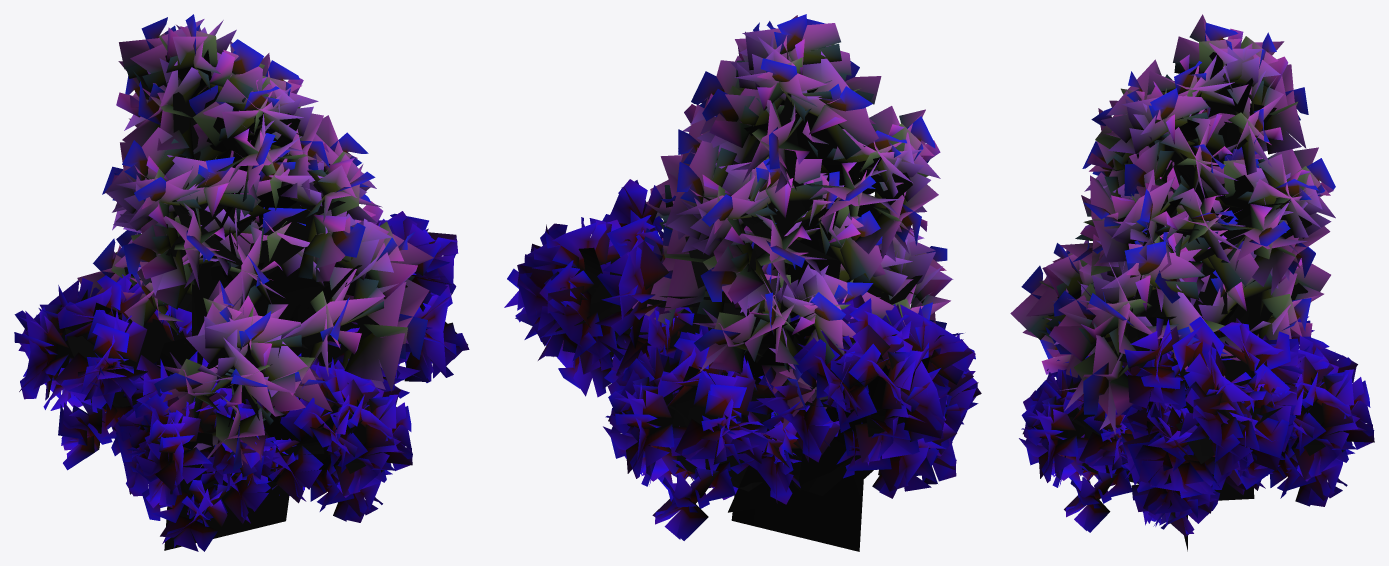
File: holm_oak_3.dae
The picture shows the model from 3 angles, left to right: view 1: azimuth 30°, elevation 25°; view 2: azimuth 150°, elevation 25°; view 3: azimuth 270°, elevation 25°; orthographic projection. The views are drawn at different scales.
Visible parts, largest first — view 1: holm_oak_2_003; view 2: holm_oak_2_003; view 3: holm_oak_2_003.
Part boxes in pixels (x1=…): holm_oak_2_003: x1=14, y1=14, x2=469, y2=551; holm_oak_2_003: x1=504, y1=14, x2=981, y2=551; holm_oak_2_003: x1=1010, y1=14, x2=1374, y2=551.
Bounding box in the file's own units: 10.72 × 8.33 × 12.39.
